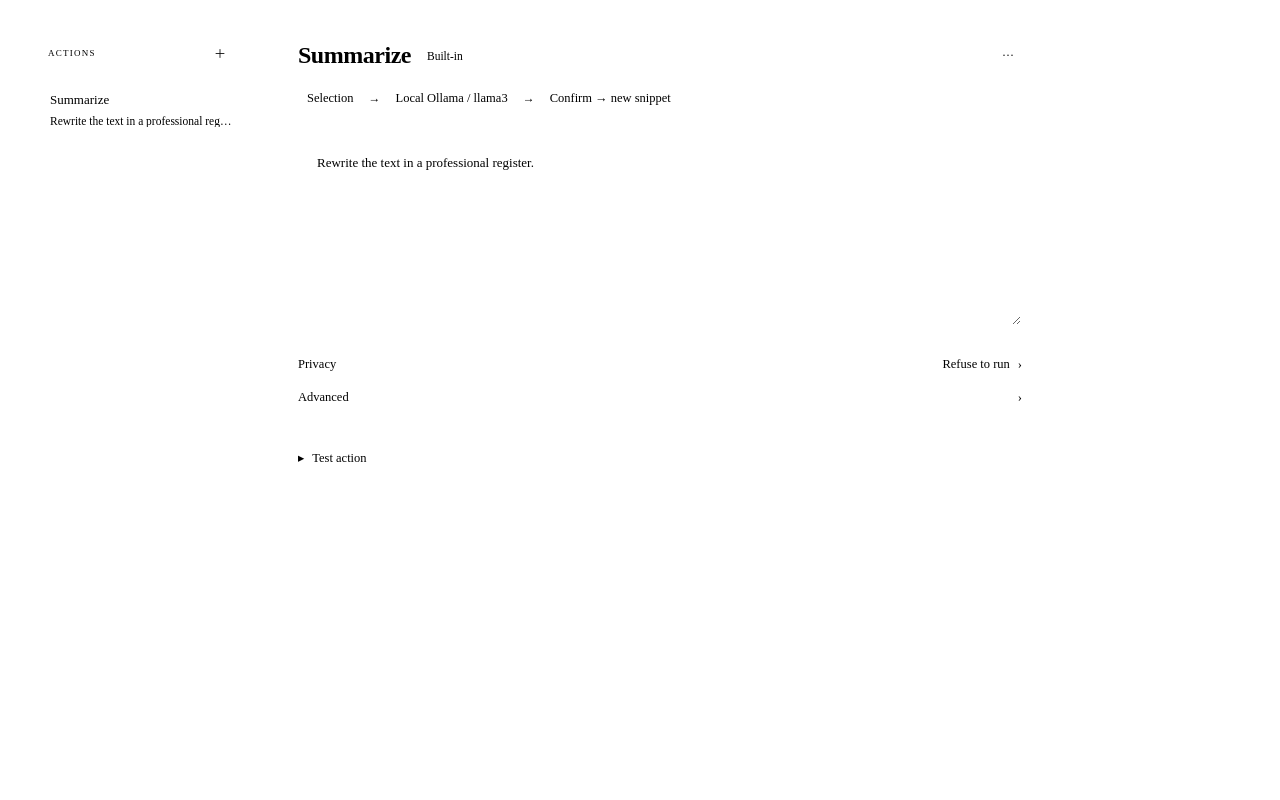
Test: ActionsPage — the test bench › saves the result as a snippet only on confirm in new_snippet mode
Click the button "▸ Test action": (332, 458) [298,444,367,472]
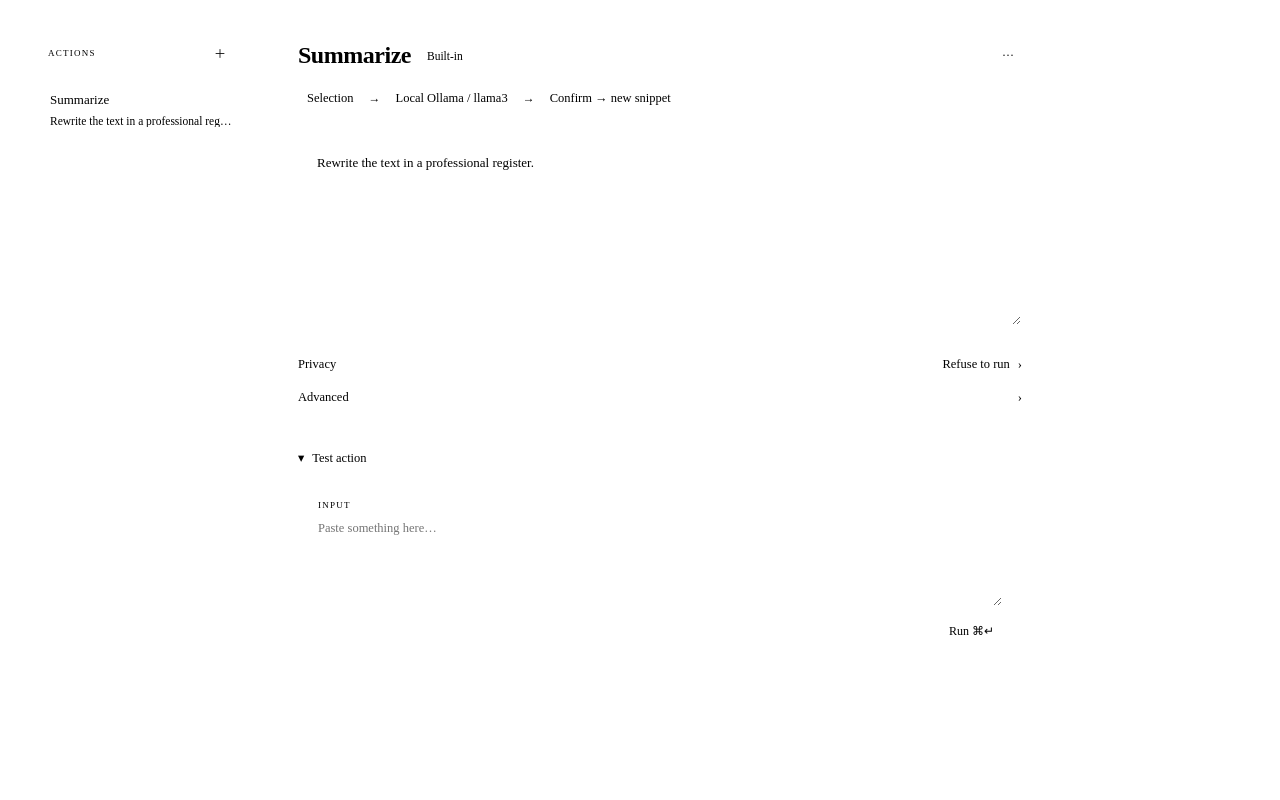
In the text box named "Test input": (660, 558) [318,510,1002,606], type "long text"
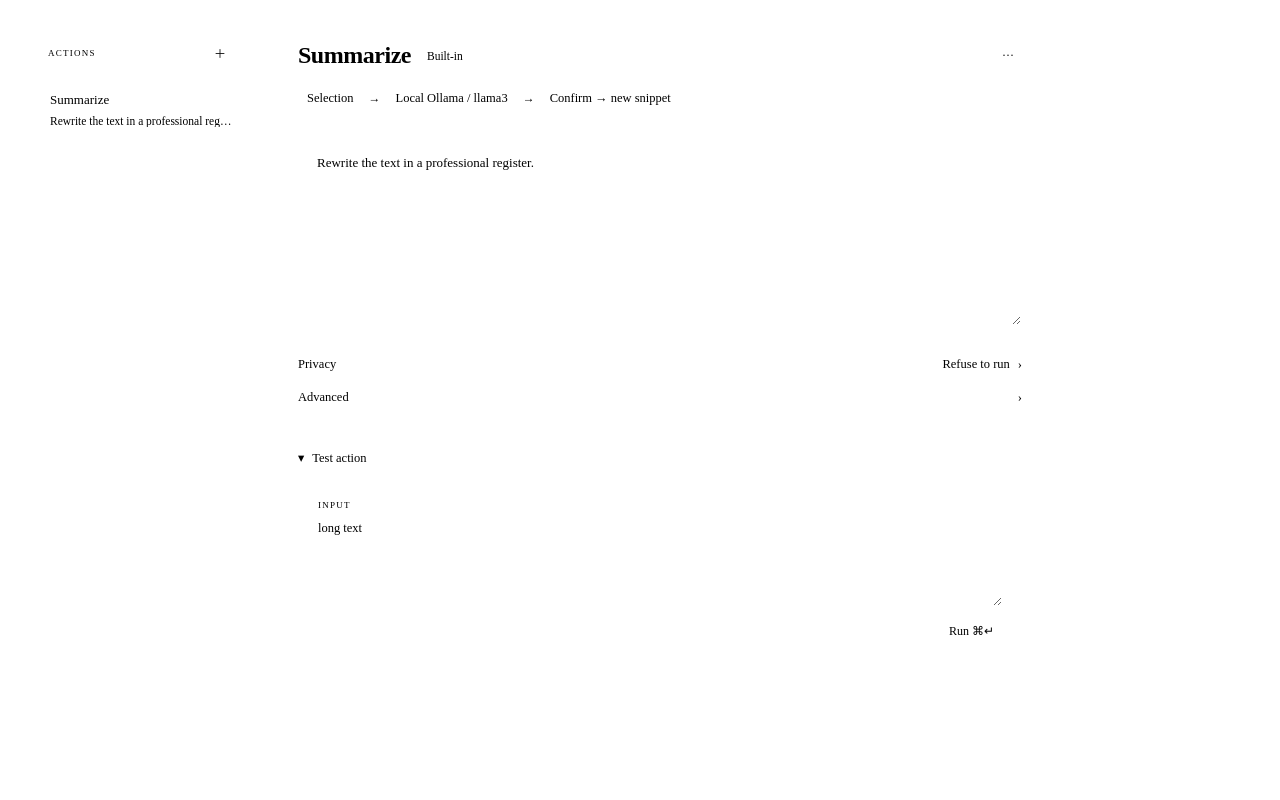
Click the button "Run ⌘↵": (971, 631) [941,618,1002,644]
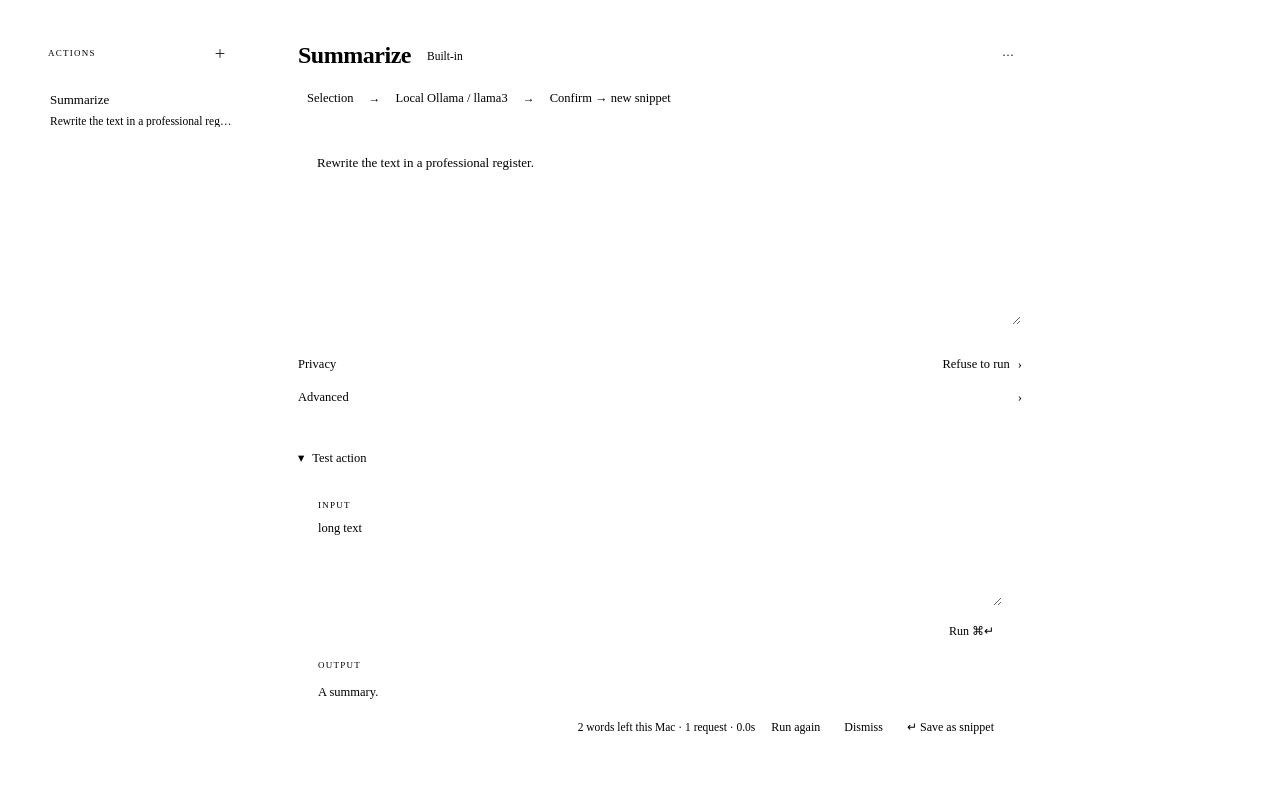
Click the button "↵ Save as snippet": (950, 727) [899,714,1002,740]
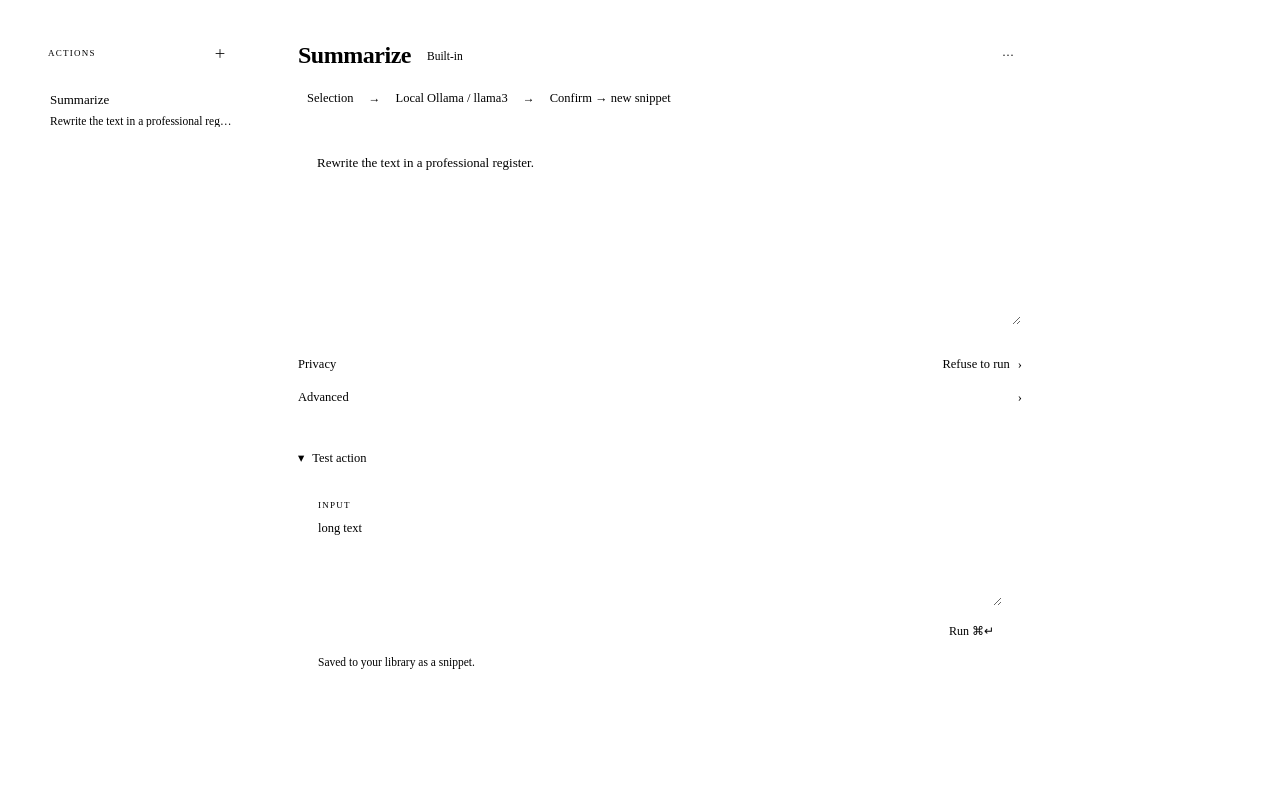
expect the text "Saved to your library as a snippet." is shown: met, box [318,656,475,668]
